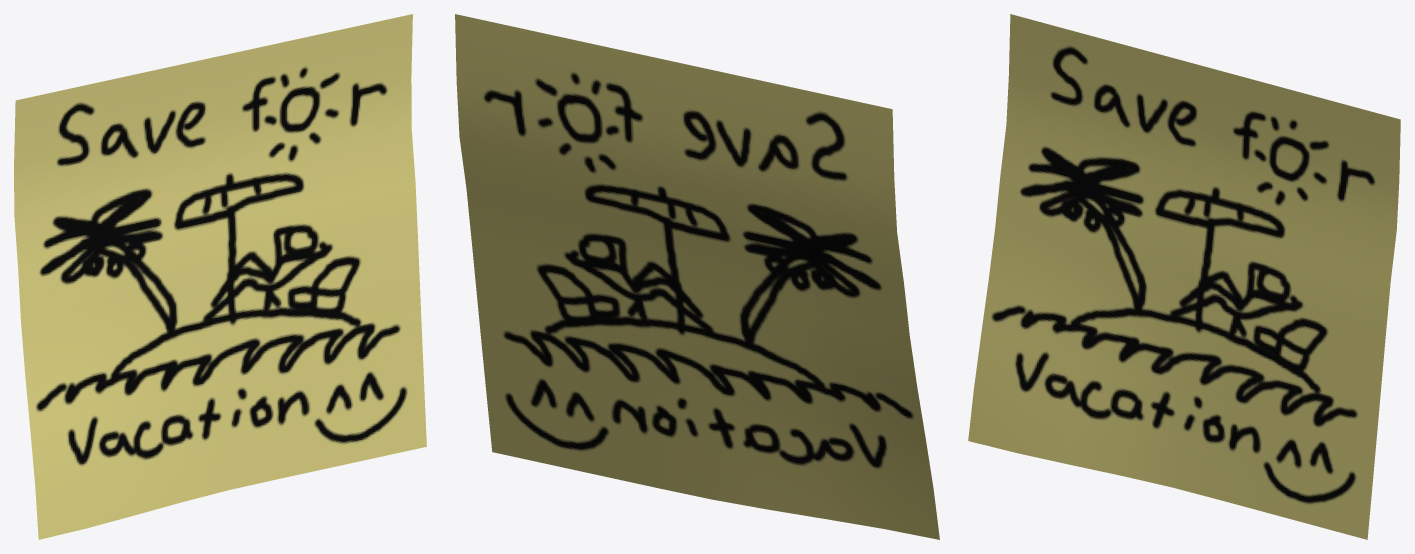
The model's file is Sticky Not.glb.
The picture shows the model from 3 angles, left to right: view 1: azimuth 30°, elevation 25°; view 2: azimuth 150°, elevation 25°; view 3: azimuth 330°, elevation 25°; orthographic projection. The views are drawn at different scales.
Visible parts, largest first — view 1: StickyNote.002; view 2: StickyNote.002; view 3: StickyNote.002.
Boxes of the visible parts, <box> form: StickyNote.002: <box>14,14,426,539</box>; StickyNote.002: <box>455,14,939,539</box>; StickyNote.002: <box>968,14,1400,539</box>.
Size of the model in its own units: 0.0781 by 0.0775 by 0.011.
Materials: 1 (1 with a texture image).
